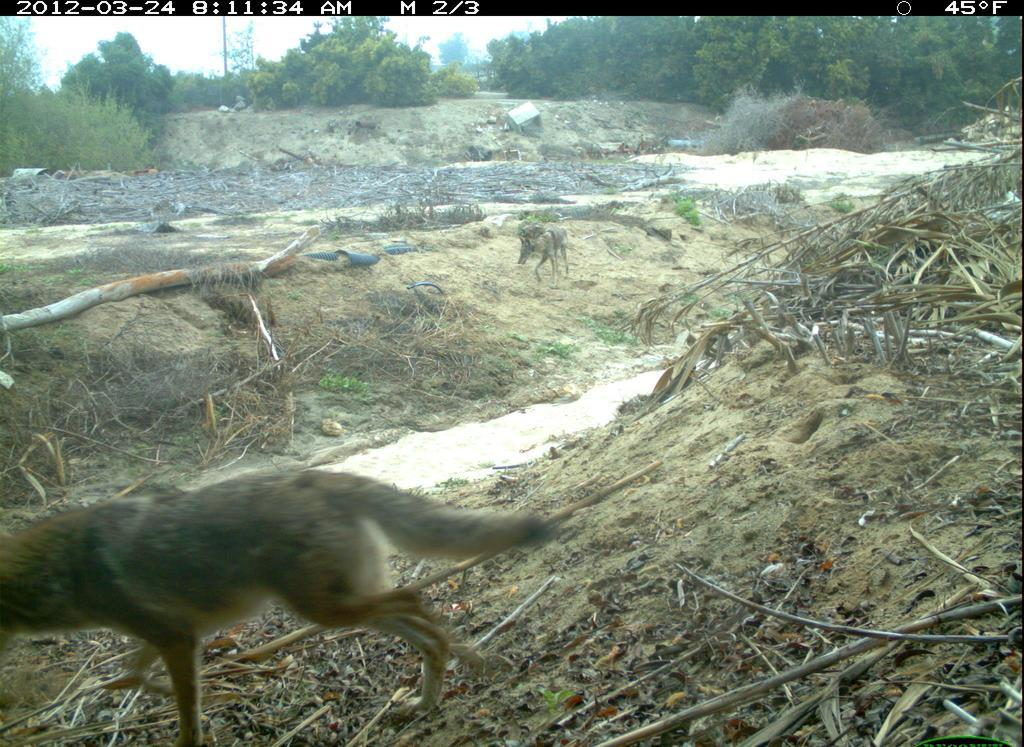coyote: (3, 454, 574, 747), (515, 222, 575, 287)
